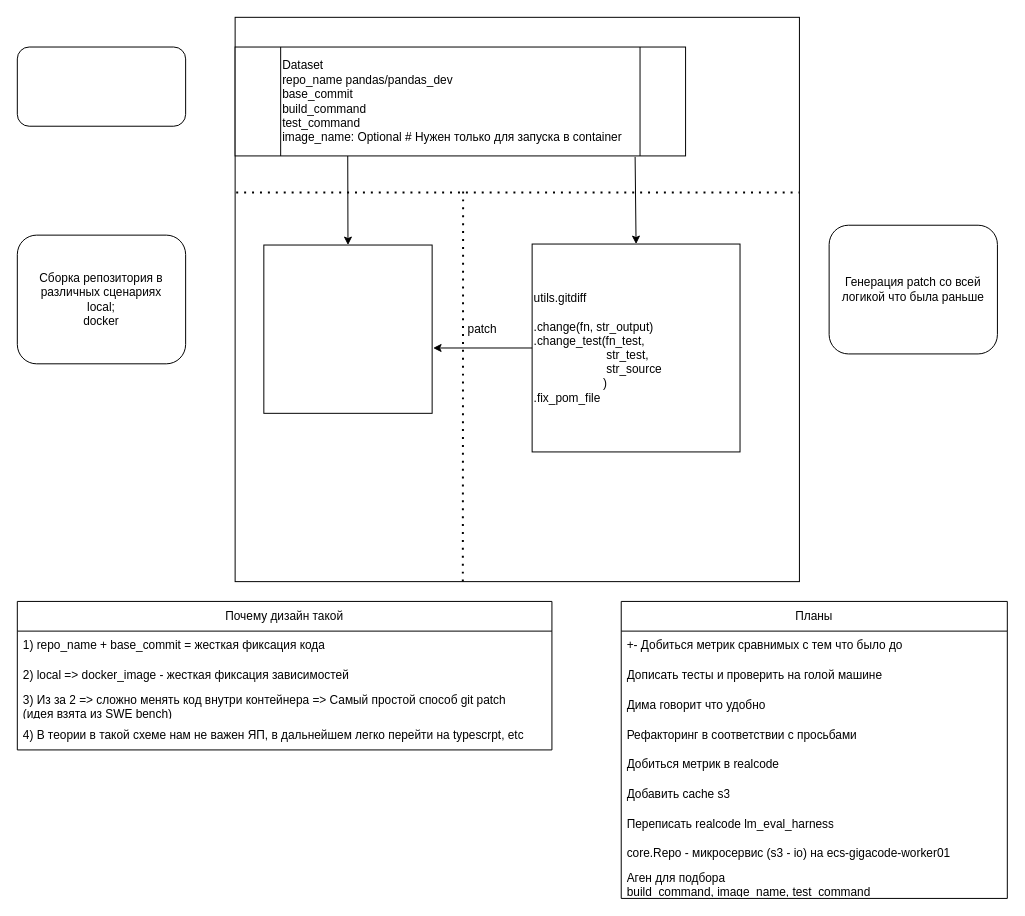
This 1025x916 diagram has some shape labels left out. Each missing label, with the box of its shape:
core.Repo .clone .clean .build_env .apply_patch .run_test .parsers.maven_parser: (263, 244, 432, 413)
RepoTest: (234, 16, 799, 582)
Уровень данных: (16, 46, 186, 126)
